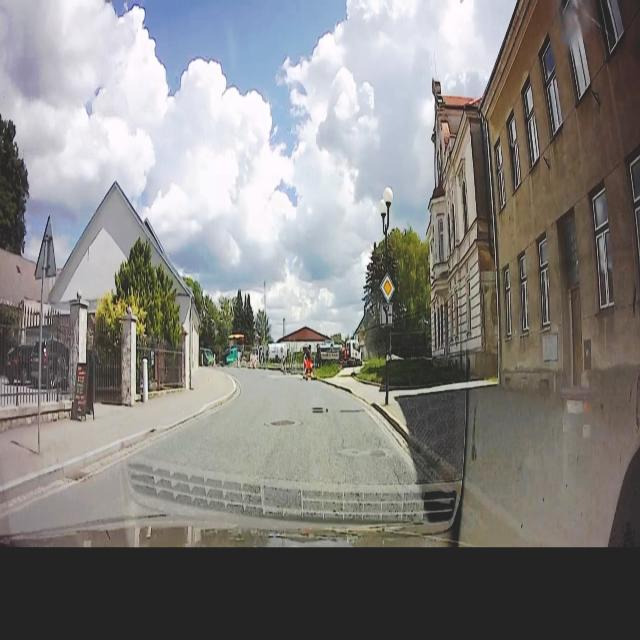Priority road: (374, 268, 399, 304)
